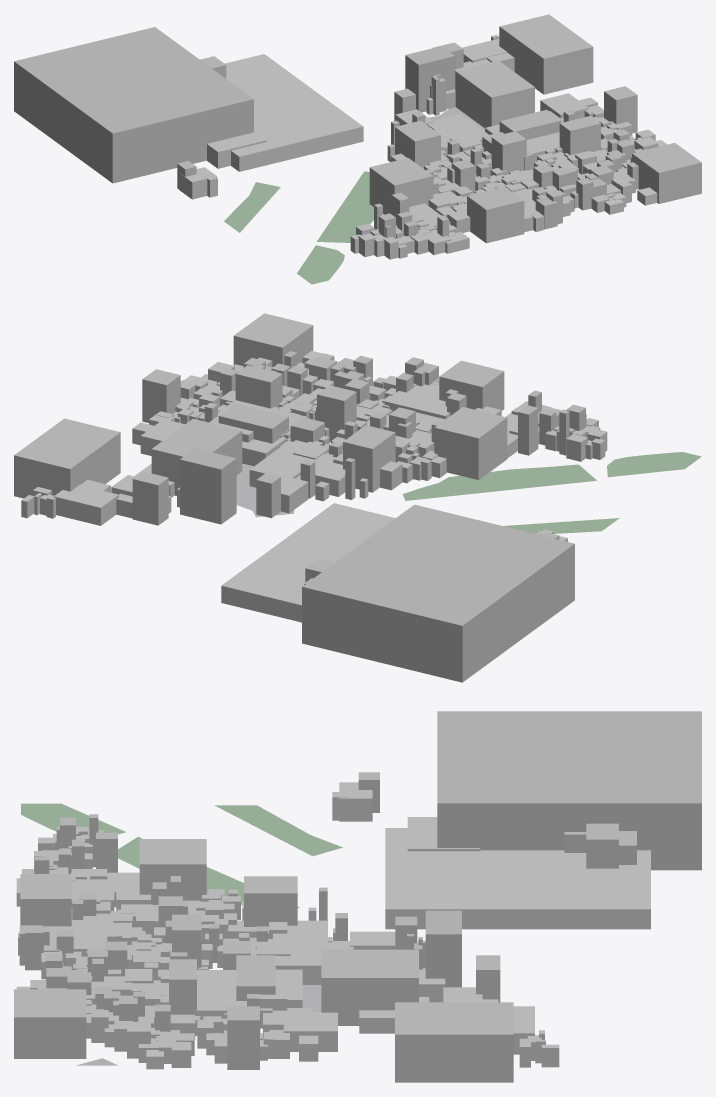
File: 110_91_mid.glb
3 views of the same model, one above another, from view 1: azimuth 30°, elevation 25°; view 2: azimuth 150°, elevation 25°; view 3: azimuth 270°, elevation 25° (orthographic). The views are drawn at different scales.
Bounding box in the file's own units: 584 × 61.02 × 560.
